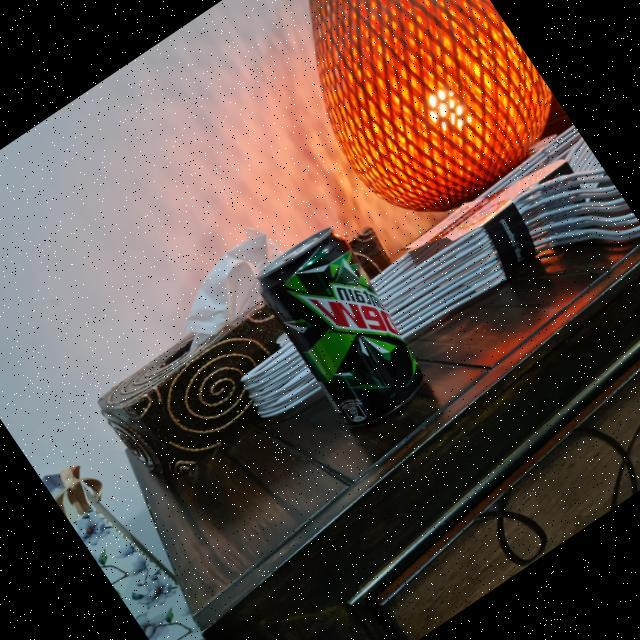debris: (240, 212, 444, 437)
